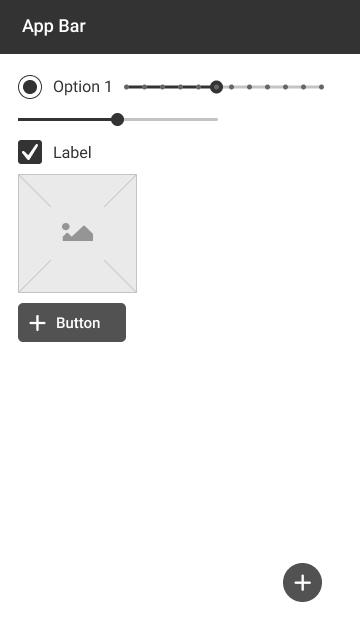buttonImage: (18, 302, 129, 344)
checkBox: (14, 137, 97, 166)
floatingButton: (280, 560, 323, 604)
imageView: (16, 171, 139, 296)
radioButton: (16, 71, 114, 104)
slider: (119, 79, 331, 96)
slider1: (12, 113, 222, 126)
toolbar: (1, 1, 360, 54)
